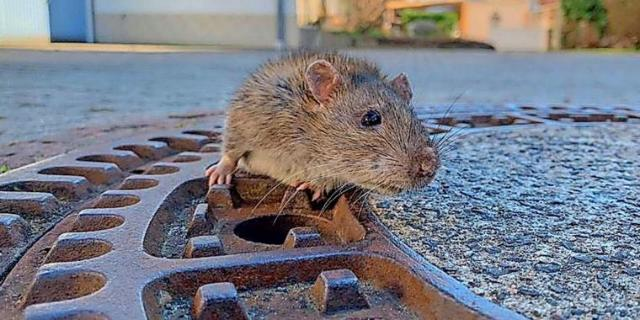rat: (194, 40, 452, 212)
